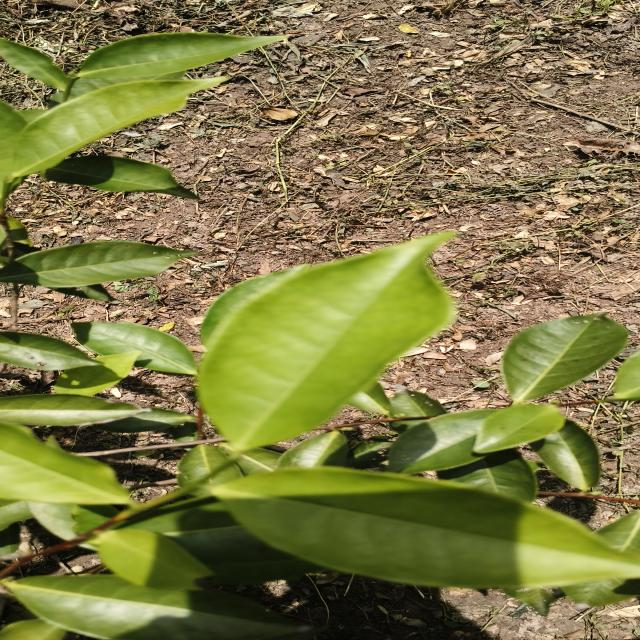Leaf: (198, 233, 454, 449), (210, 467, 640, 588), (0, 78, 219, 179), (13, 576, 314, 640), (501, 313, 628, 404), (0, 423, 128, 504), (79, 32, 284, 78), (0, 241, 193, 288), (388, 409, 498, 473), (97, 529, 212, 589), (42, 155, 197, 199), (71, 322, 196, 375), (437, 449, 537, 502), (530, 420, 600, 491), (0, 394, 150, 426), (474, 404, 565, 454), (54, 351, 141, 396), (0, 38, 70, 91), (0, 332, 92, 371), (177, 445, 242, 497), (276, 431, 348, 469), (562, 578, 640, 607), (102, 408, 194, 432), (595, 510, 640, 554), (389, 390, 446, 417)
